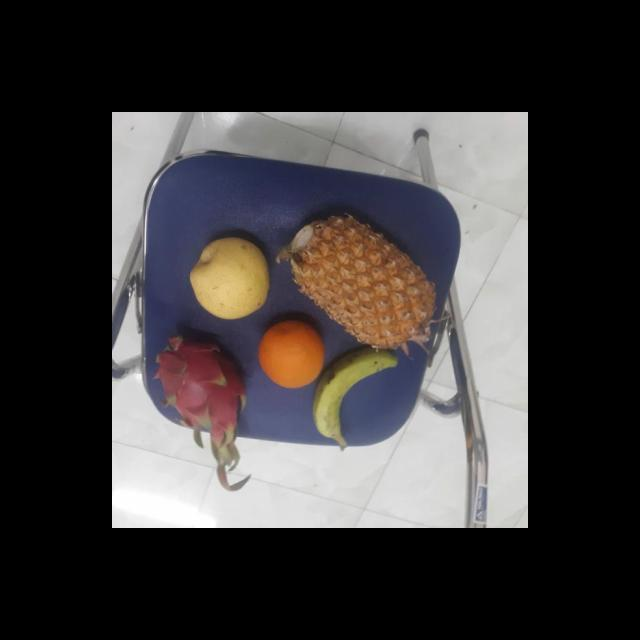orange: (257, 318, 330, 389)
pear: (188, 235, 274, 318)
pineapple: (285, 218, 439, 350)
pitaya: (304, 343, 431, 449), (154, 328, 252, 439)
